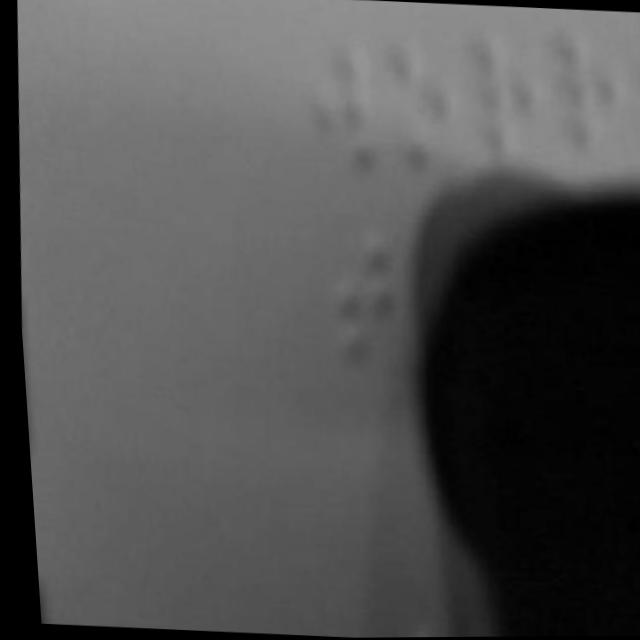braiile: (534, 25, 631, 181), (295, 33, 386, 193), (369, 41, 465, 190), (316, 219, 402, 379), (460, 24, 547, 179)
